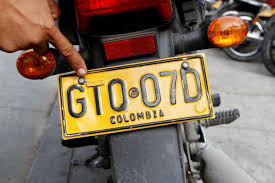number plate: (58, 54, 213, 139)
